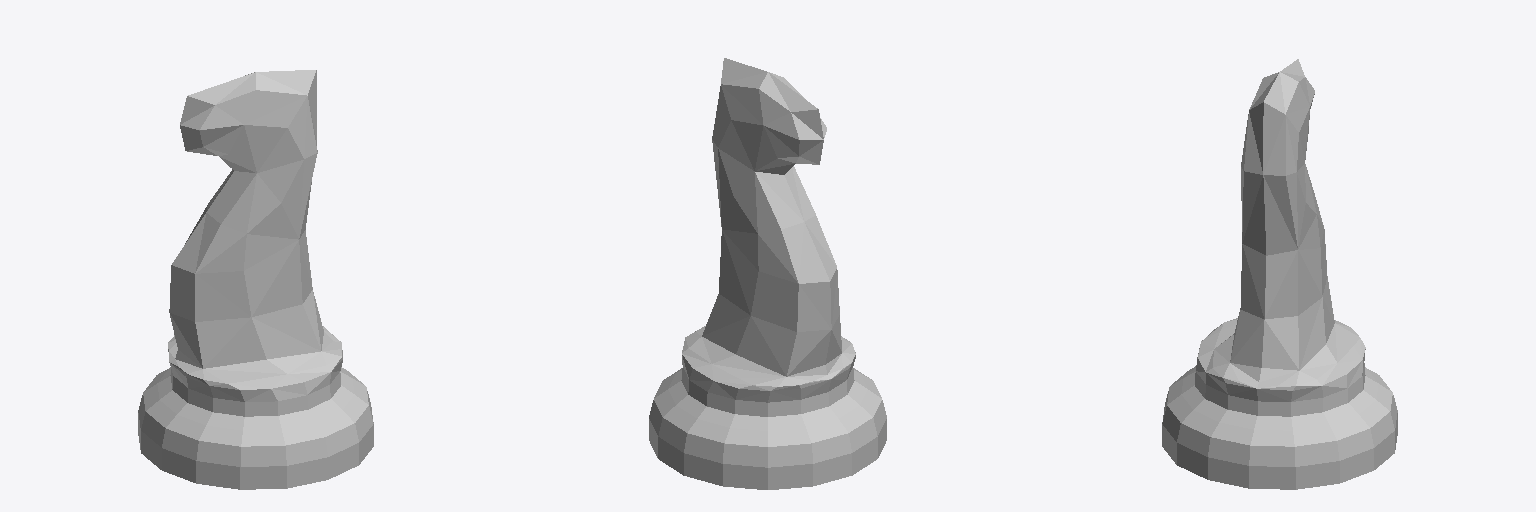
The model's file is knight.obj.
The picture shows the model from 3 angles: view 1: azimuth 30°, elevation 25°; view 2: azimuth 150°, elevation 25°; view 3: azimuth 270°, elevation 25°; orthographic projection.
Parts seen in each view (by area): view 1: Knight_Cylinder.001; view 2: Knight_Cylinder.001; view 3: Knight_Cylinder.001.
Boxes of the visible parts, <box> form: Knight_Cylinder.001: <box>138,70,373,489</box>; Knight_Cylinder.001: <box>649,58,886,489</box>; Knight_Cylinder.001: <box>1162,59,1397,489</box>.
Bounding box in the file's own units: 2.76 × 4.76 × 2.76.